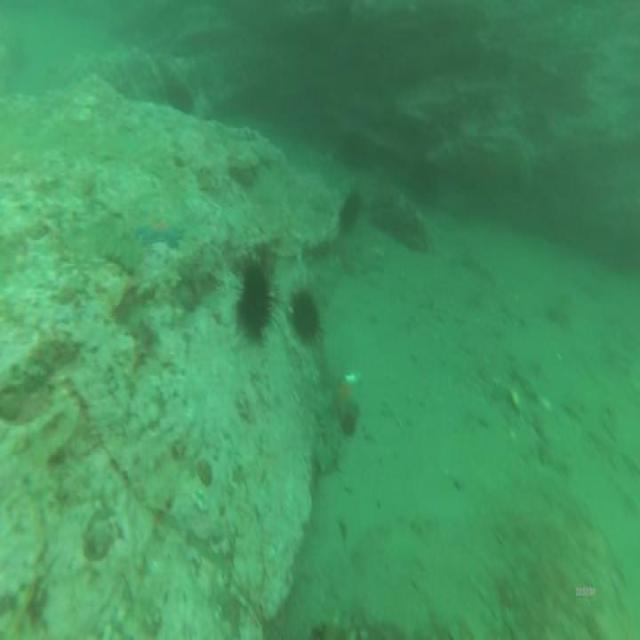echinus: (242, 272, 269, 330), (293, 291, 319, 340), (341, 191, 360, 229)
holothurian: (316, 408, 340, 472)
starfish: (140, 218, 184, 250)
